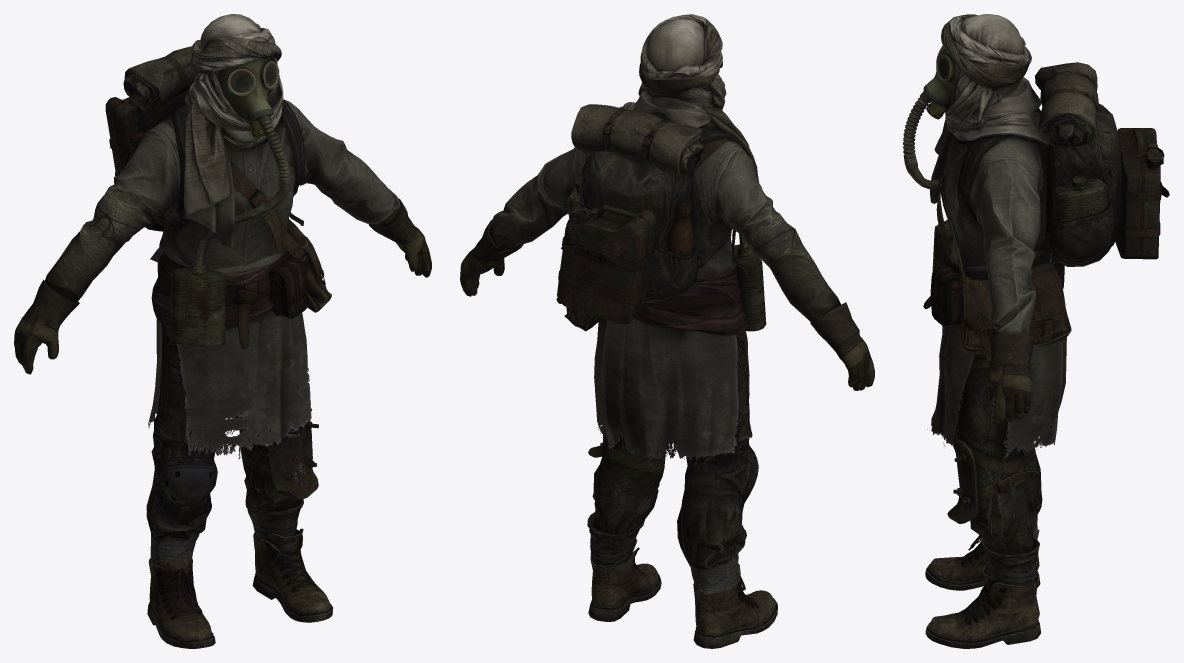
Rendered from RustNomad.fbx.
The picture shows the model from 3 angles, left to right: view 1: azimuth 30°, elevation 25°; view 2: azimuth 150°, elevation 25°; view 3: azimuth 270°, elevation 25°; orthographic projection.
Parts seen in each view (by area): view 1: NomadBody; view 2: NomadBody; view 3: NomadBody.
Boxes of the visible parts, x1,y1,x2,y2 form: NomadBody: [14, 14, 431, 648]; NomadBody: [460, 14, 874, 648]; NomadBody: [903, 14, 1169, 648].
Size of the model in its own units: 148 by 208 by 84.55.
